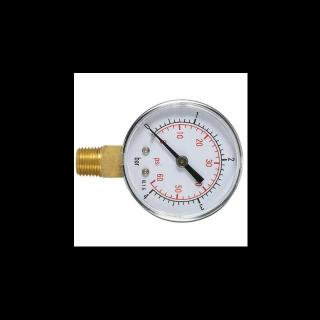gauge: (81, 90, 247, 246), (138, 178, 160, 202), (141, 122, 159, 138), (176, 156, 188, 168), (149, 125, 155, 134)
